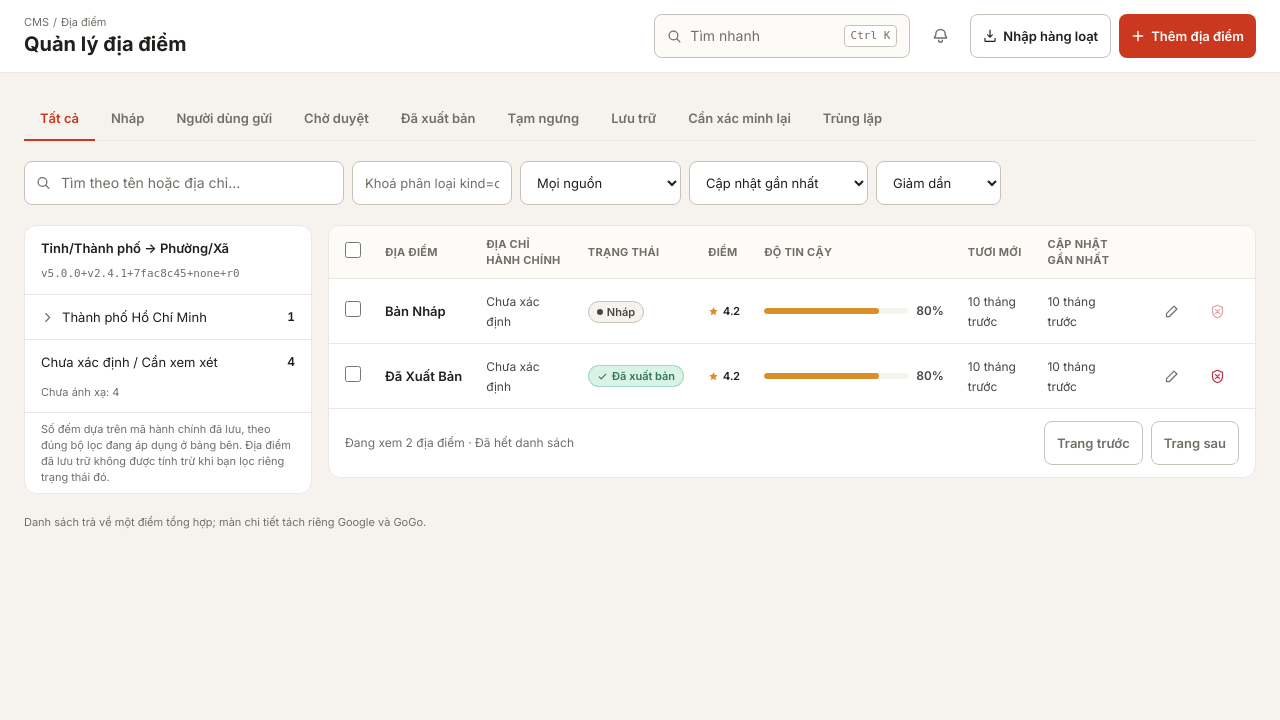
Test: bulk place workflow › offers only what a mixed selection has in common
Click the checkbox named "Bản Nháp" at (353,308), box top-left (345, 300), bottom-right (361, 316)
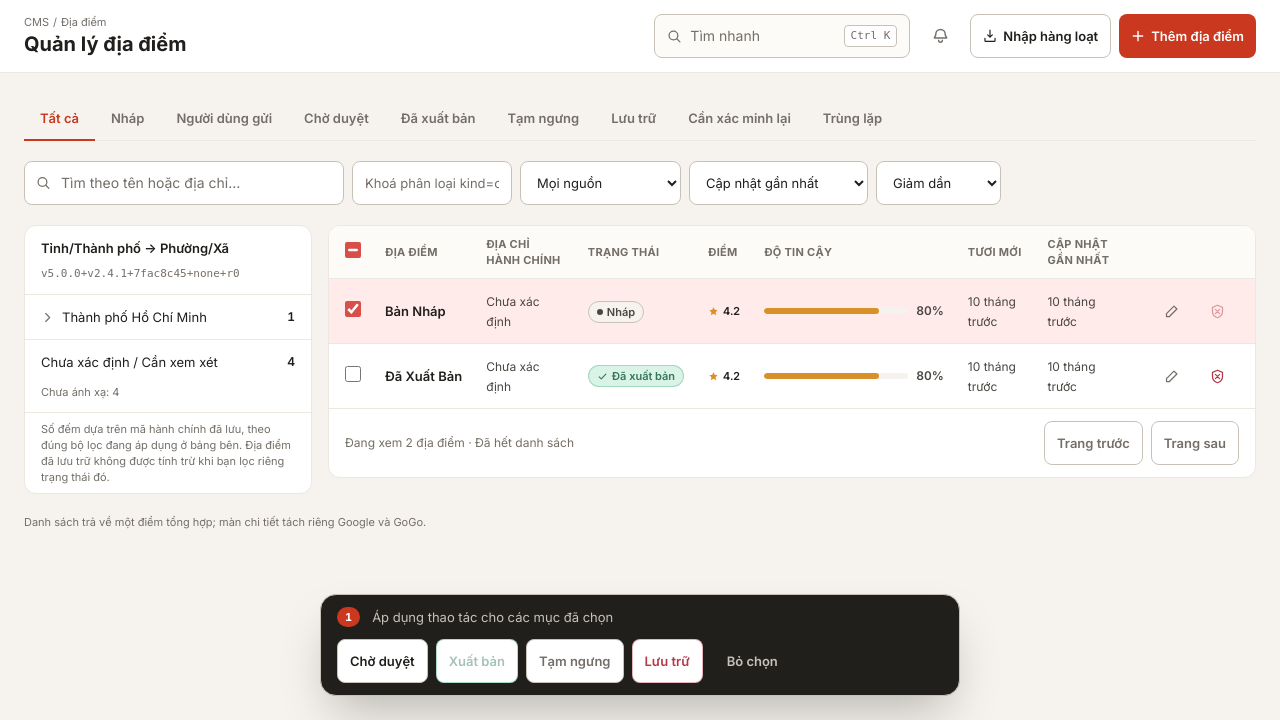
Click the checkbox named "Đã Xuất Bản" at (353,374), box top-left (345, 366), bottom-right (361, 382)
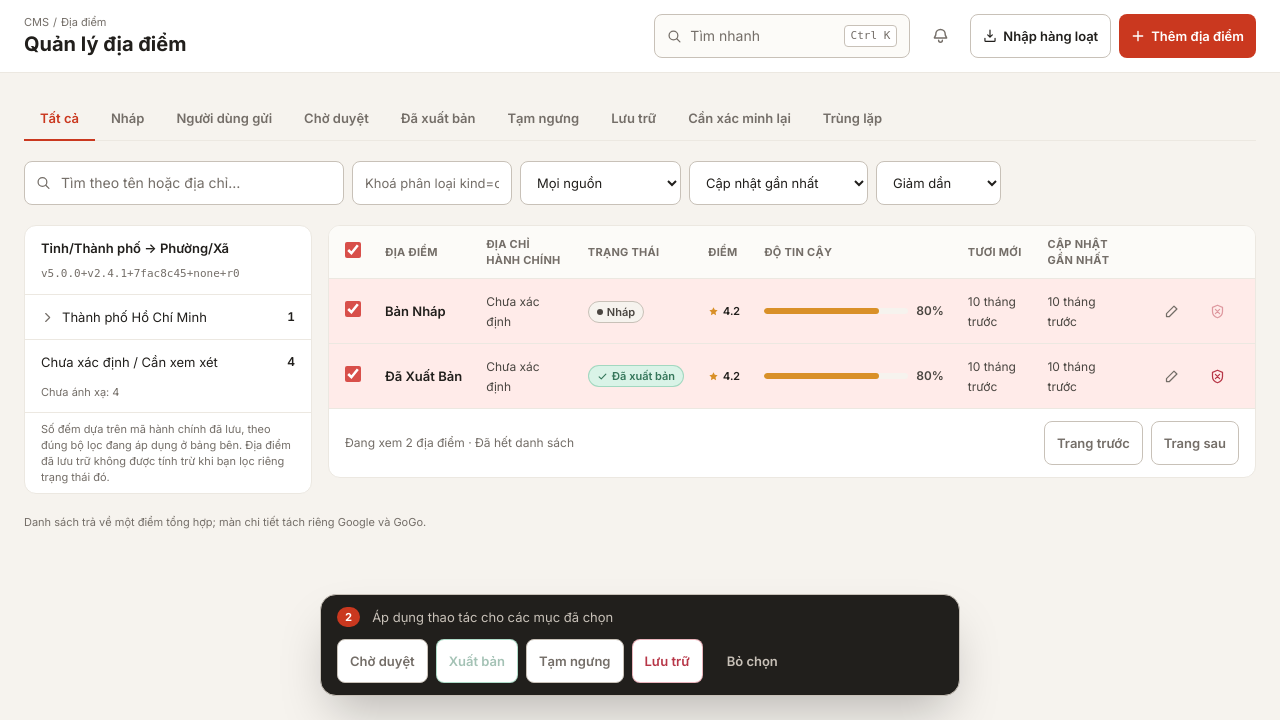
Now the button "Lưu trữ" is enabled, box top-left (632, 639), bottom-right (703, 683)
Now the button "Xuất bản" is disabled, box top-left (436, 639), bottom-right (518, 683)
Now the button "Chờ duyệt" is disabled, box top-left (337, 639), bottom-right (428, 683)
